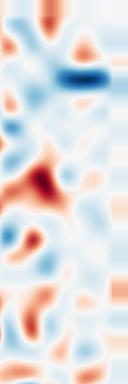filament: (19, 148, 70, 219)
